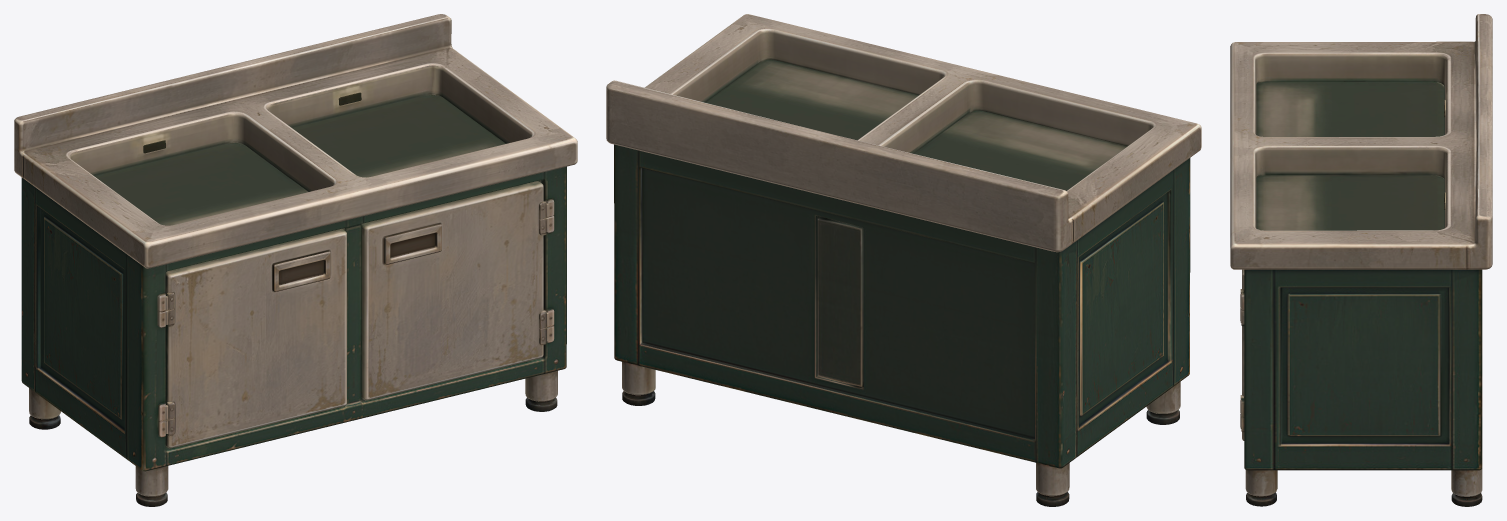
Rendered from P18_double_sink_cabinet_Runtime_1k.glb.
3 renders of one model, left to right at view 1: azimuth 30°, elevation 25°; view 2: azimuth 150°, elevation 25°; view 3: azimuth 270°, elevation 25°, orthographic. The views are drawn at different scales.
Visible parts, largest first — view 1: tripo_node_e39f56ad; view 2: tripo_node_e39f56ad; view 3: tripo_node_e39f56ad.
Boxes of the visible parts, x1,y1,x2,y2 form: tripo_node_e39f56ad: (14, 14, 577, 506); tripo_node_e39f56ad: (606, 14, 1201, 506); tripo_node_e39f56ad: (1230, 14, 1492, 506).
Bounding box in the file's own units: 1.45 × 0.969 × 0.7858.
Materials: 1 (1 with a texture image).
